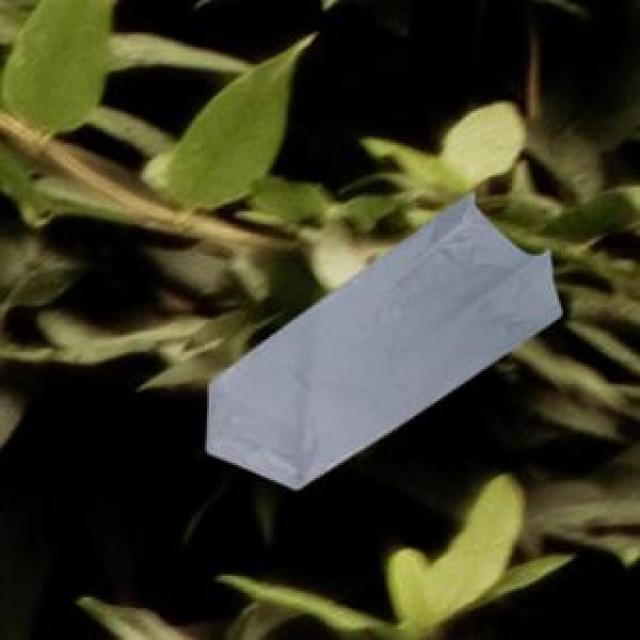waste: (206, 195, 561, 489)
